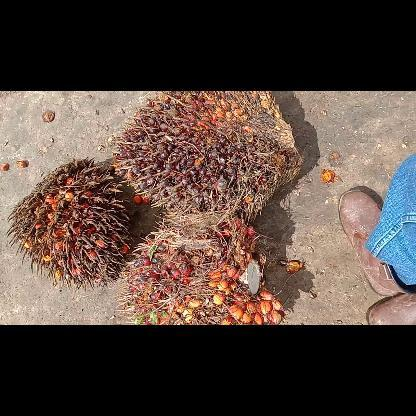Kurang masak: (116, 90, 300, 218)
TBS masak: (128, 219, 283, 323)
Terlalu masak: (7, 158, 129, 284)
